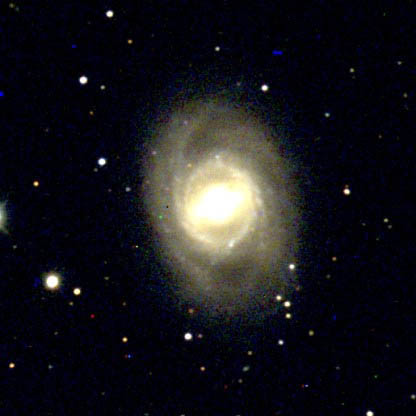Messier 95: (126, 83, 320, 331)
